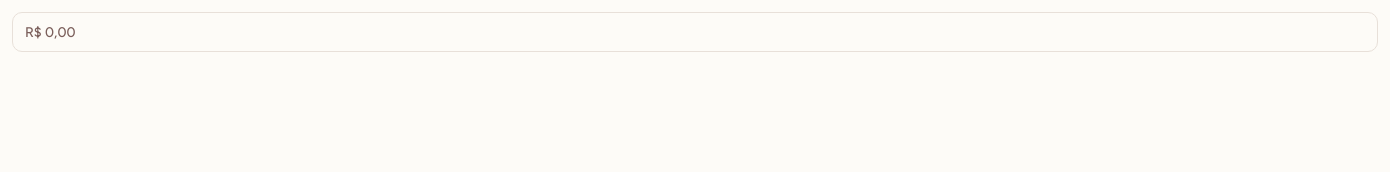
it: CurrencyInput › applies the BRL mask during real input events
Type "3" into the field named "Valor" at (695, 32), box x1=12 y1=12 x2=1378 y2=52
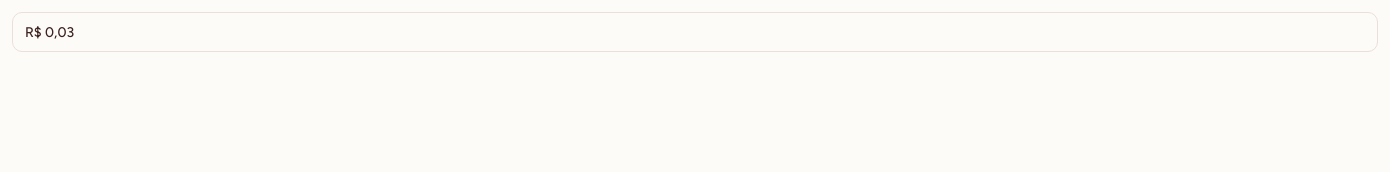
Now the field named "Valor" holds "R$ 0,03"
Replace the text in the field named "Valor" with "123456" at (695, 32), box x1=12 y1=12 x2=1378 y2=52
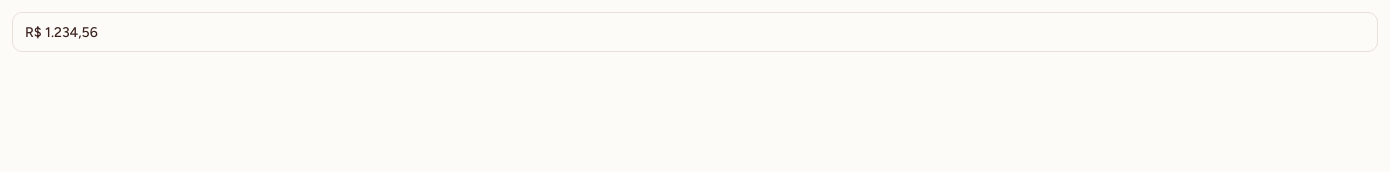
Now the field named "Valor" holds "R$ 1.234,56", box x1=12 y1=12 x2=1378 y2=52
